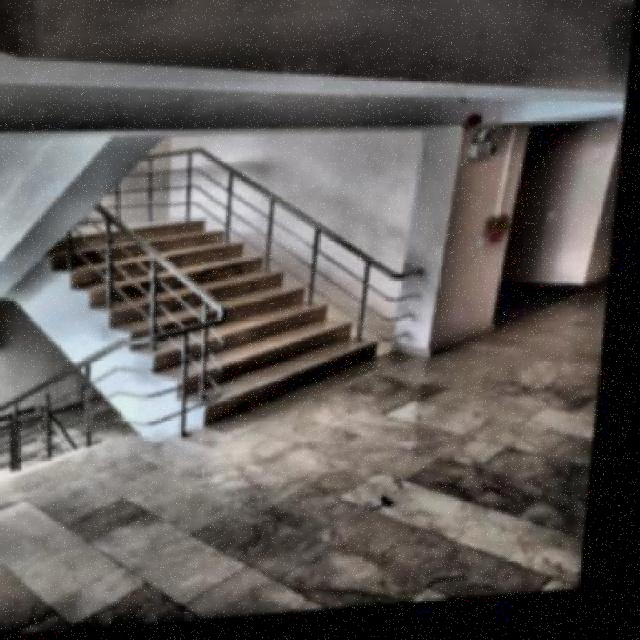stair: (39, 216, 406, 432)
